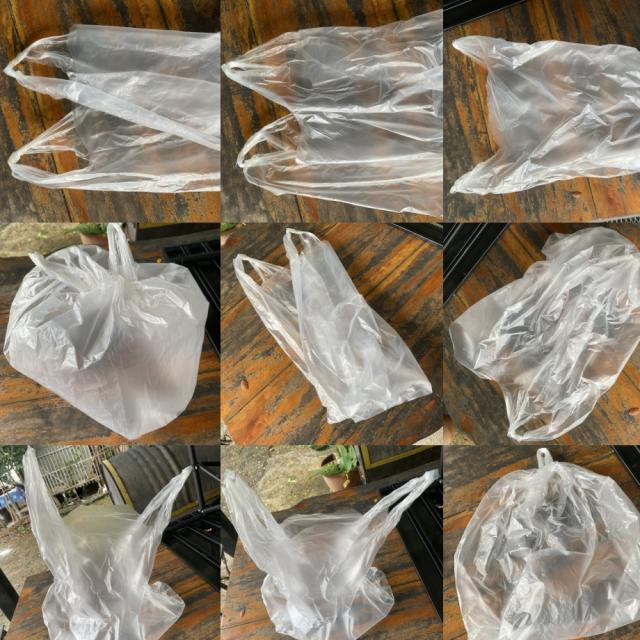plastik: (222, 10, 443, 217), (4, 223, 208, 440), (449, 227, 640, 440), (233, 228, 432, 423), (222, 470, 437, 640), (4, 25, 220, 192), (454, 447, 640, 640), (23, 447, 192, 640), (451, 35, 640, 194)
